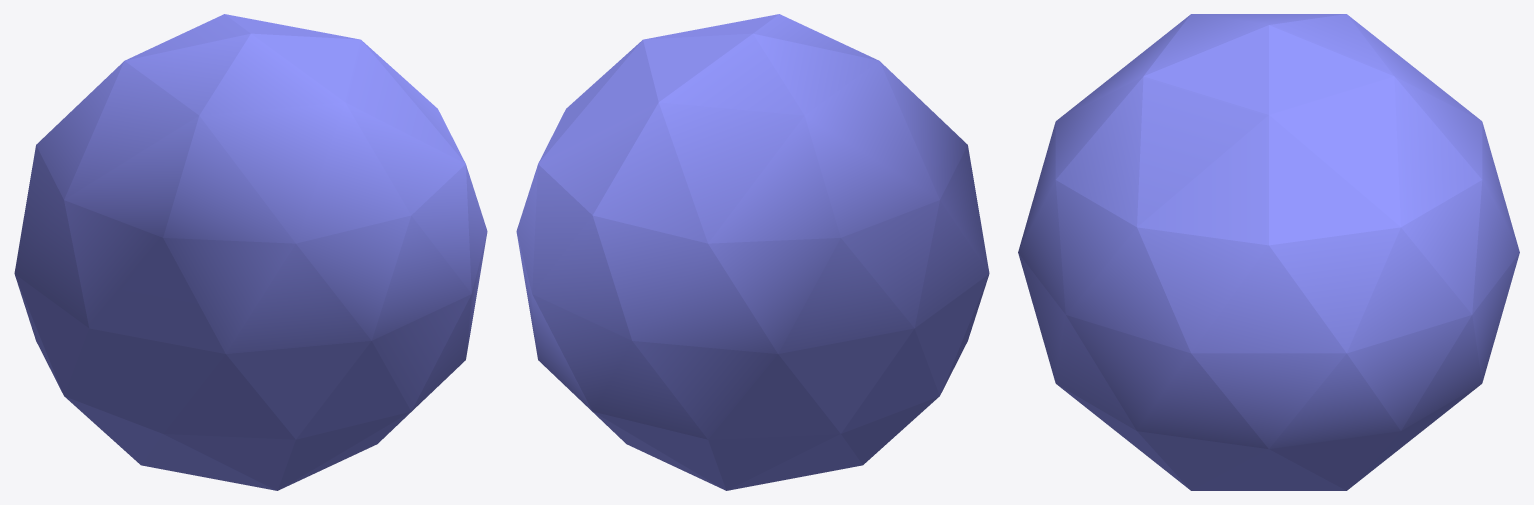
File: uvmd-0253.glb
3 renders of one model, left to right at view 1: azimuth 30°, elevation 25°; view 2: azimuth 150°, elevation 25°; view 3: azimuth 270°, elevation 25°, orthographic. The views are drawn at different scales.
Visible parts, largest first — view 1: uvmd-0253; view 2: uvmd-0253; view 3: uvmd-0253.
Boxes of the visible parts, <box> form: uvmd-0253: <box>14,14,487,490</box>; uvmd-0253: <box>516,14,989,490</box>; uvmd-0253: <box>1018,14,1519,490</box>.
Bounding box in the file's own units: 952 × 1000 × 1000.
Materials: 1 (1 with a texture image).
